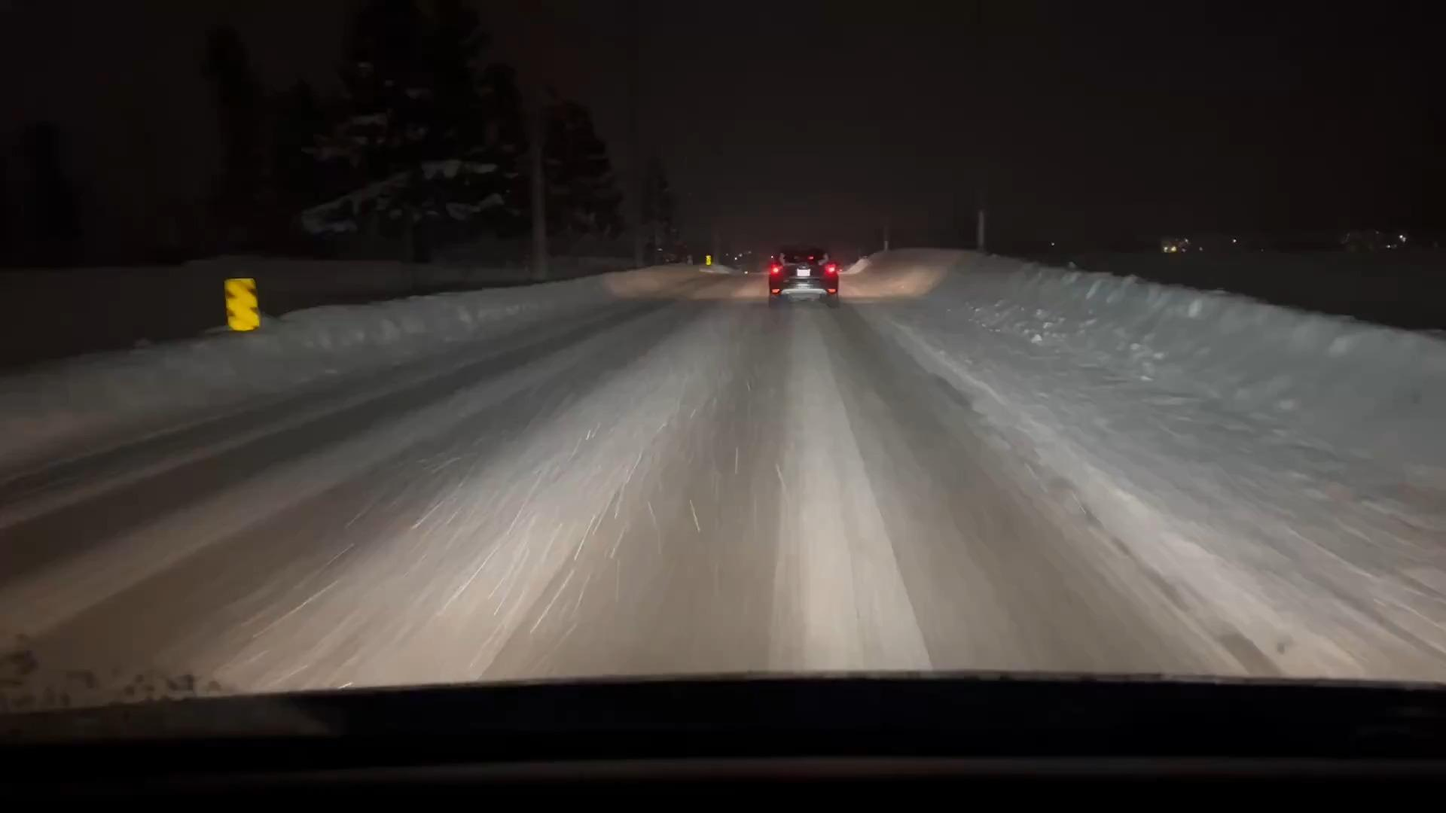Snow: (0, 265, 1445, 708)
